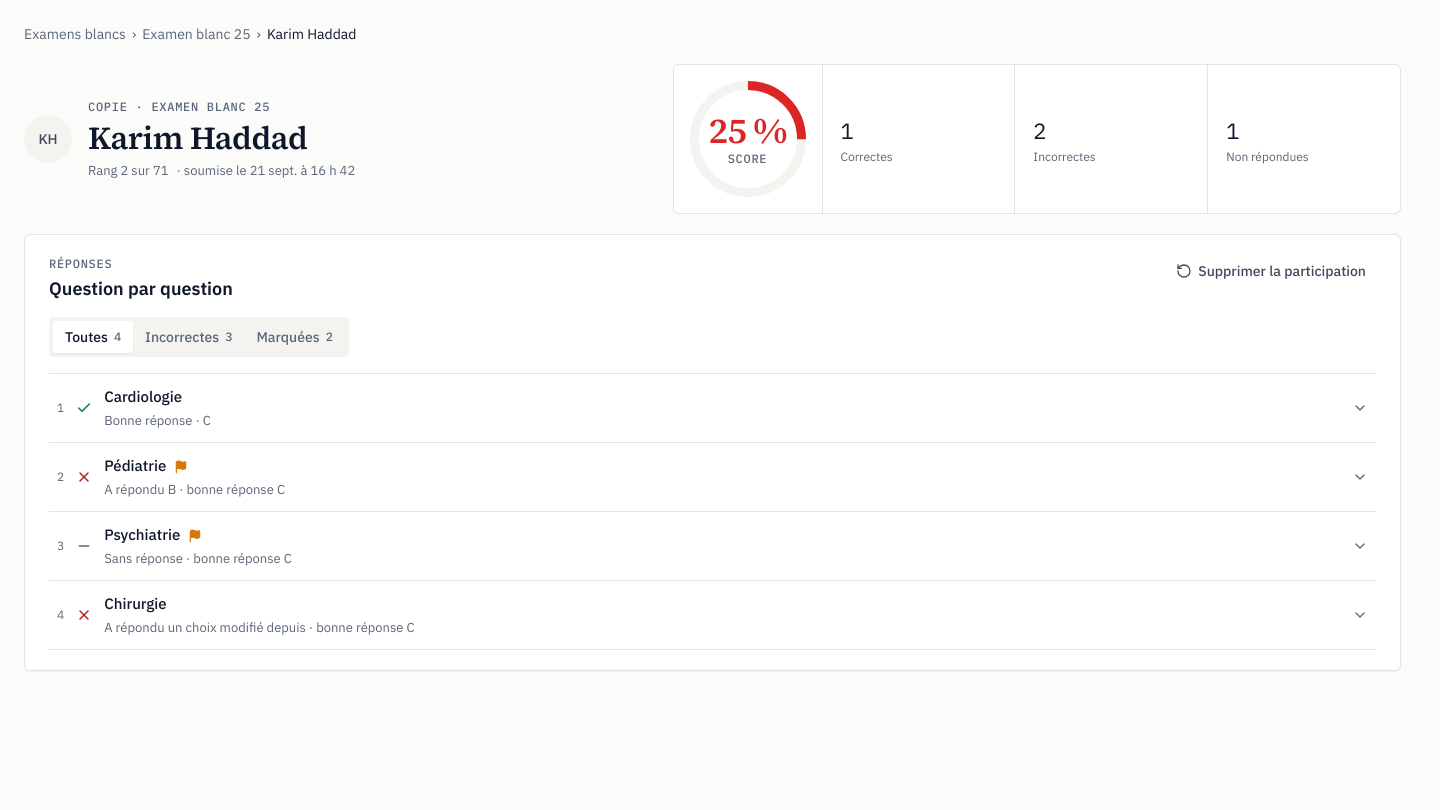
Test case: ExamCopyClient › déplie la question et charge son explication
This screenshot has width=1440, height=810.
Step 1. Click the button "2 Pédiatrie A répondu B · bonne réponse C" → (135, 466), box [49,443,1376,511]
(page scrolled)
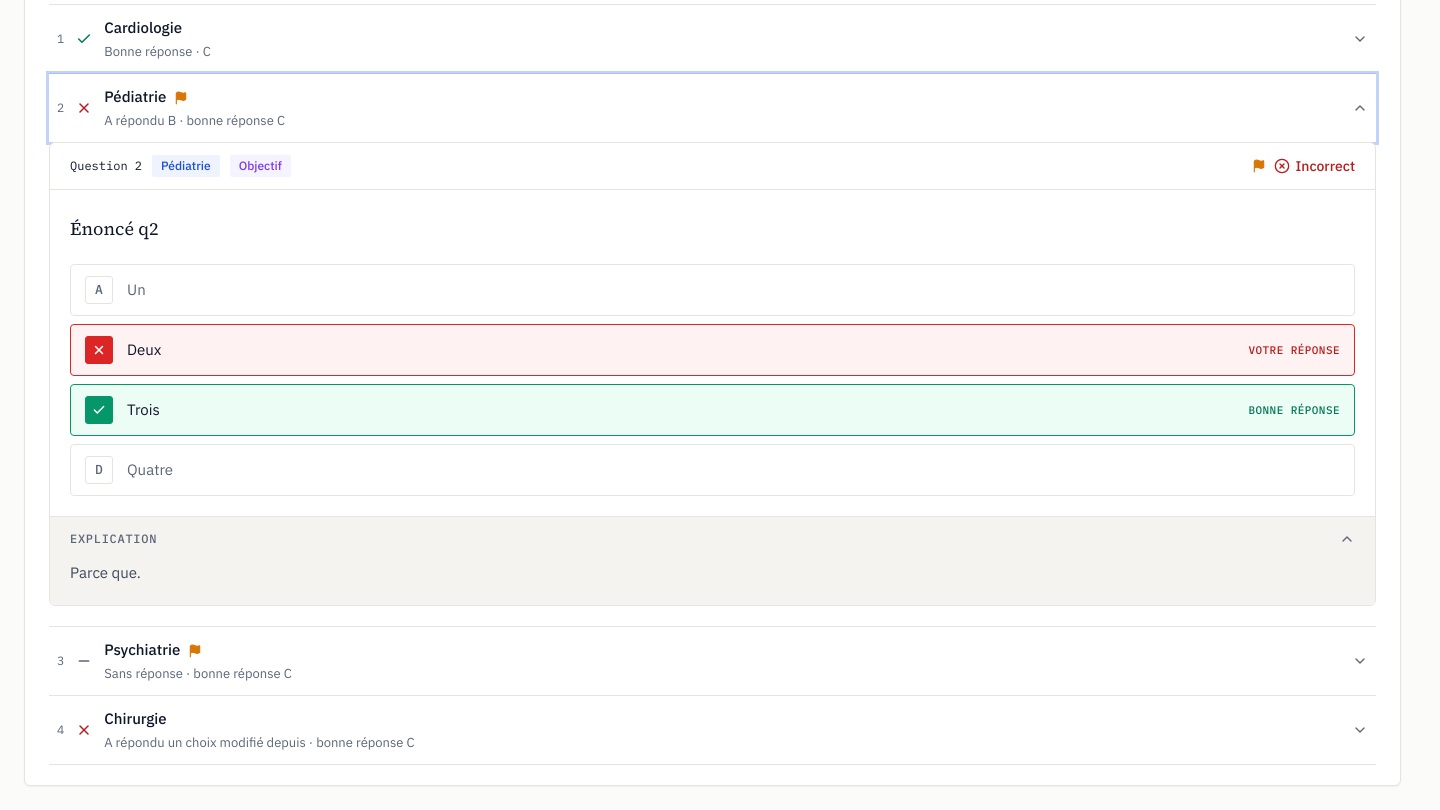
Expected: the text "Parce que." is shown, [70,563,141,582]
